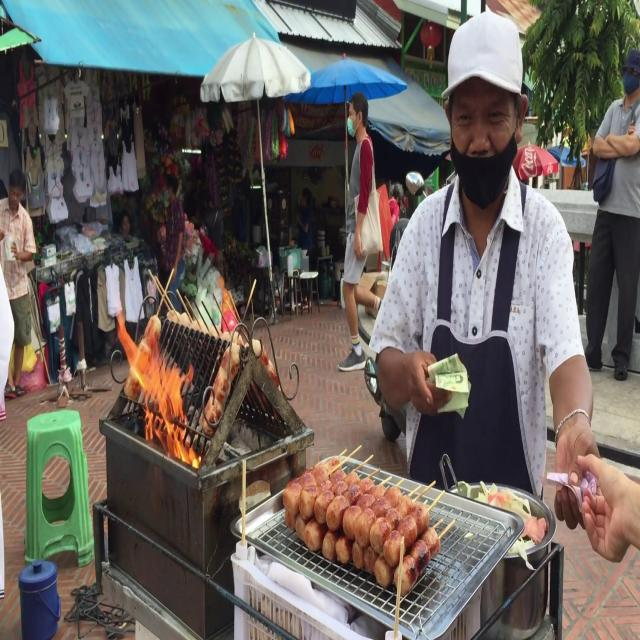Fire: (111, 302, 202, 466)
